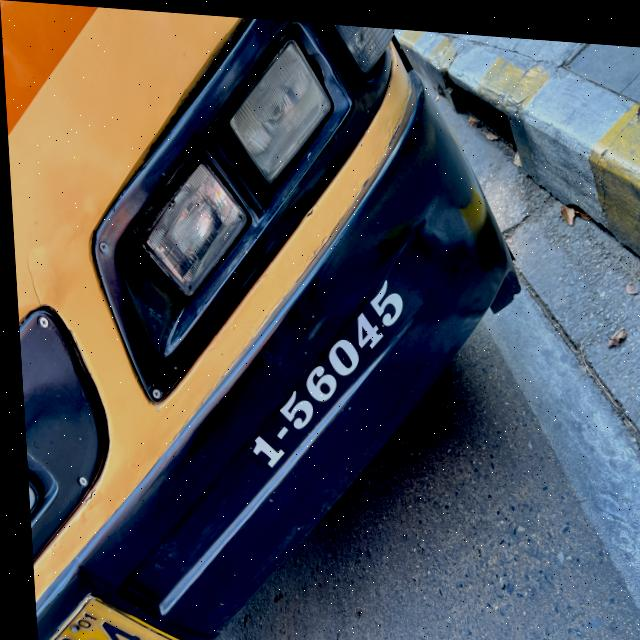BMTA-bus: (0, 0, 525, 640)
Bus Side Number: (231, 256, 419, 493)
